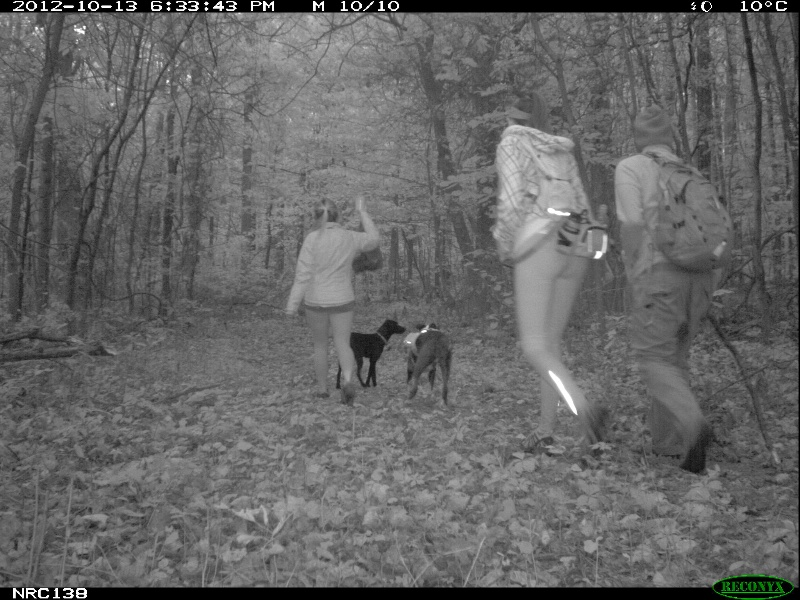dog: (329, 314, 404, 394), (402, 321, 457, 405)
human: (485, 112, 610, 459), (616, 105, 723, 476), (287, 194, 381, 405)
human legs: (510, 218, 604, 458), (628, 266, 719, 474), (304, 303, 357, 402)
